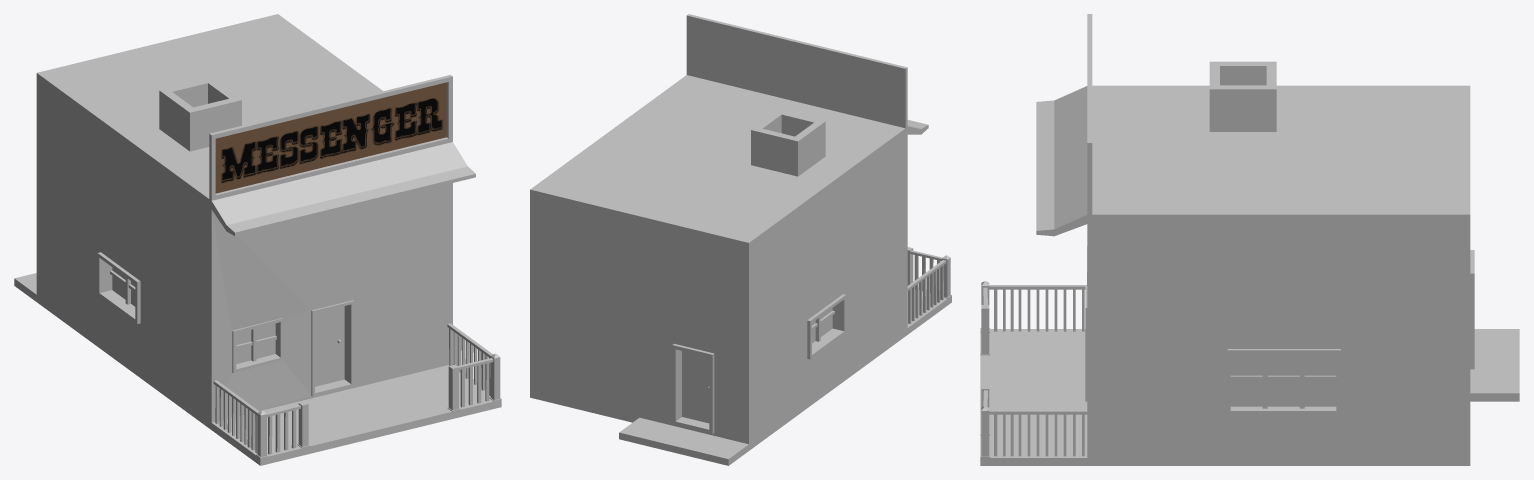
File: Casa_3.fbx
3 views of the same model, side by side, from view 1: azimuth 30°, elevation 25°; view 2: azimuth 150°, elevation 25°; view 3: azimuth 270°, elevation 25° (orthographic). The views are drawn at different scales.
Visible parts, largest first — view 1: casa, Banner; view 2: casa; view 3: casa.
Boxes of the visible parts, box(x1,y1,x2,y2) form: casa: box(14, 14, 501, 465); Banner: box(215, 82, 446, 193); casa: box(530, 14, 951, 465); casa: box(980, 14, 1519, 465).
Bounding box in the file's own units: 1732 × 1976 × 2989.
